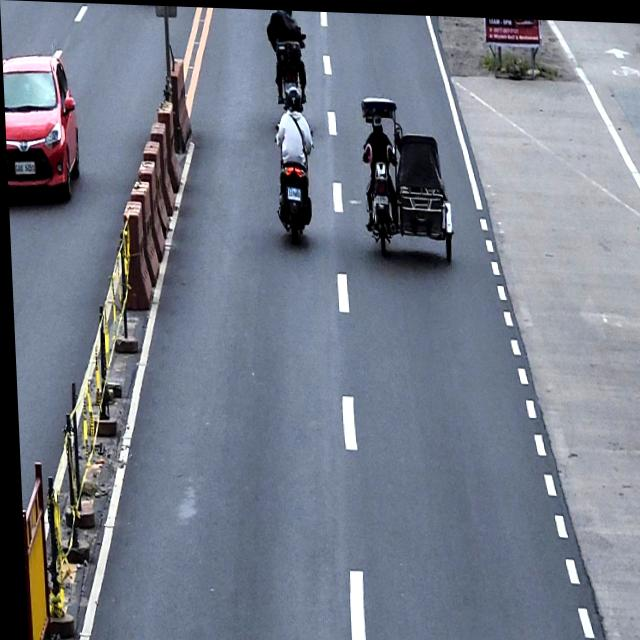Car: (2, 51, 79, 198)
License-Plate: (12, 161, 35, 176), (285, 183, 300, 200), (372, 191, 388, 203)
Motorcycle: (272, 118, 316, 240), (274, 35, 304, 104)
Tricycle: (358, 93, 454, 259)
